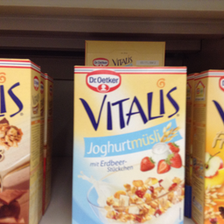cereal: (73, 65, 183, 223), (1, 57, 43, 223)
